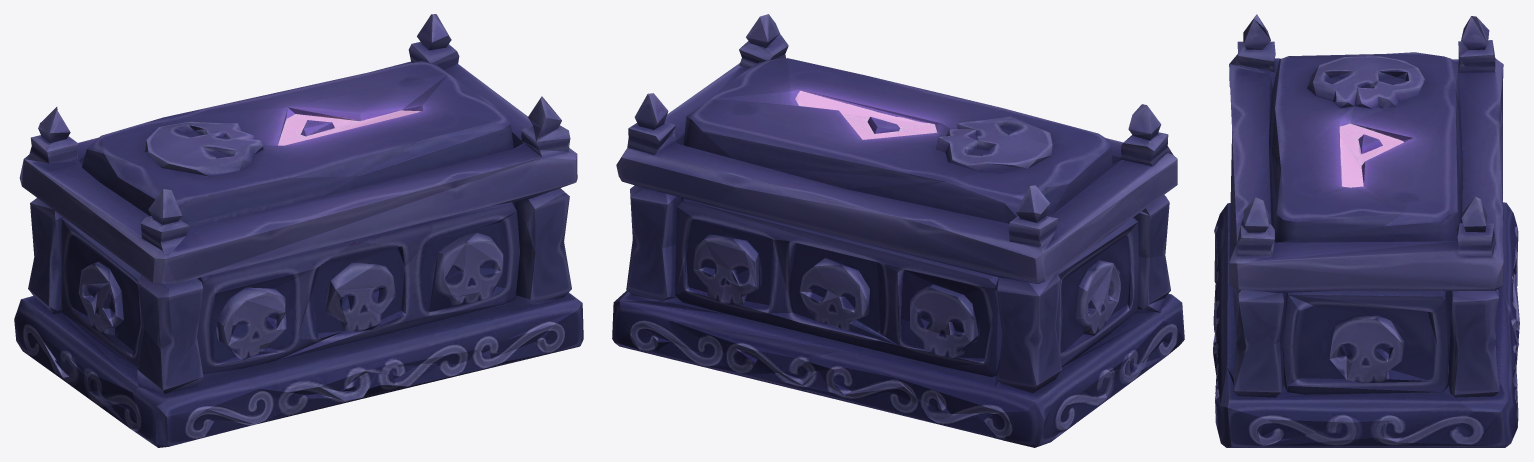
File: crypt_sarcophagus.glb
The picture shows the model from 3 angles, left to right: view 1: azimuth 30°, elevation 25°; view 2: azimuth 150°, elevation 25°; view 3: azimuth 270°, elevation 25°; orthographic projection.
Size of the model in its own units: 1.9 by 1 by 1.15.
1 material, 1 textured.
